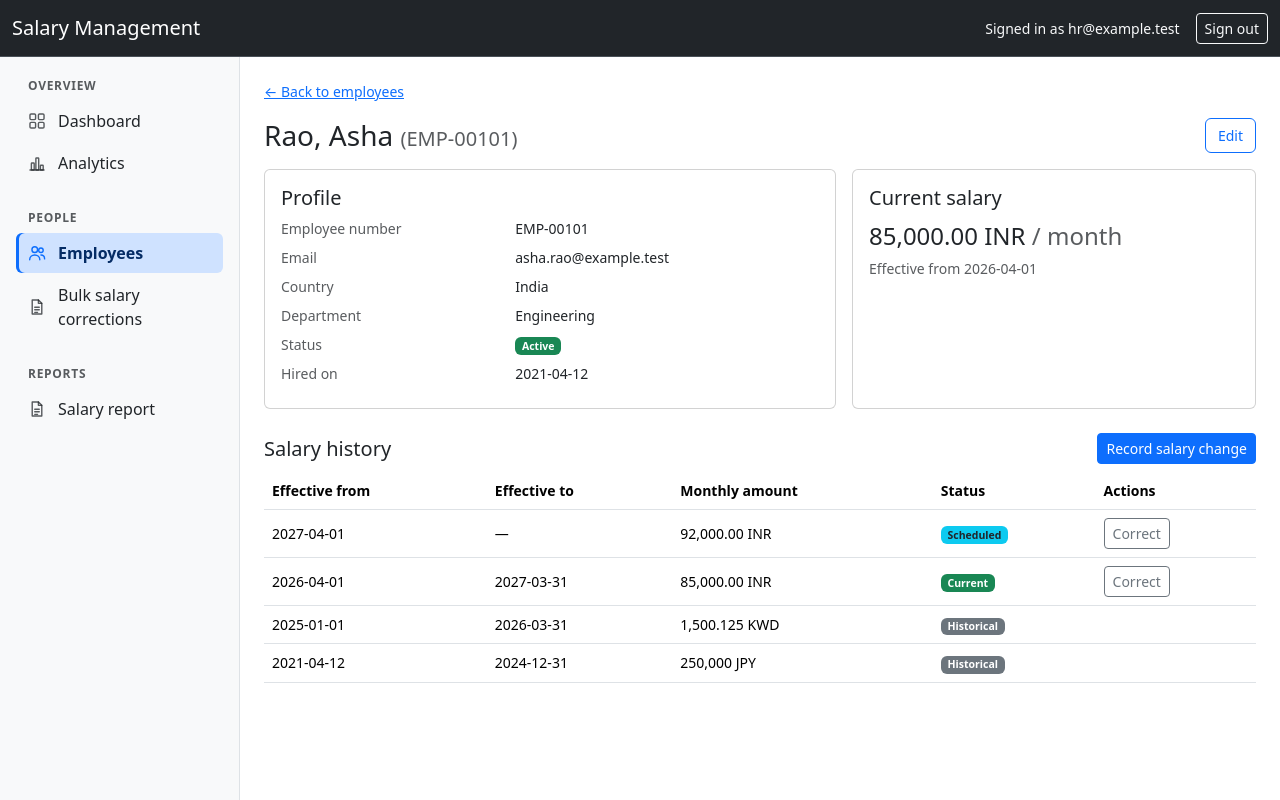
Scenario: Correct salary record › explains when the record can no longer be corrected and refreshes the history
The width and height of the screenshot is (1280, 800).
Check: the button "Record salary change" is enabled, box [1098,433,1256,464]
Click the button with aria-label "Correct salary effective from 2026-04-01". click: (1137, 582)
box: [1104,566,1170,597]
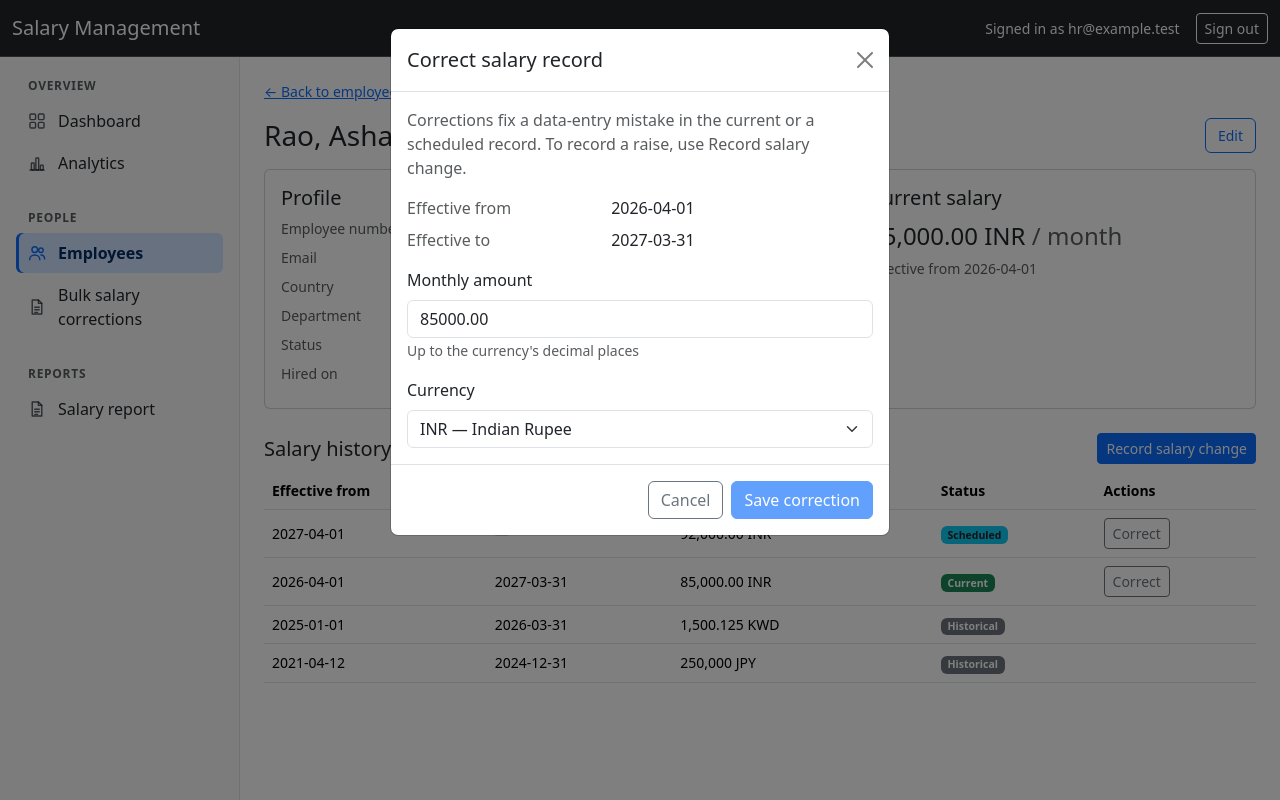
Replace the text in the field labelled "Monthly amount" with "86000.00". click: (640, 319)
box: [407,300,873,338]
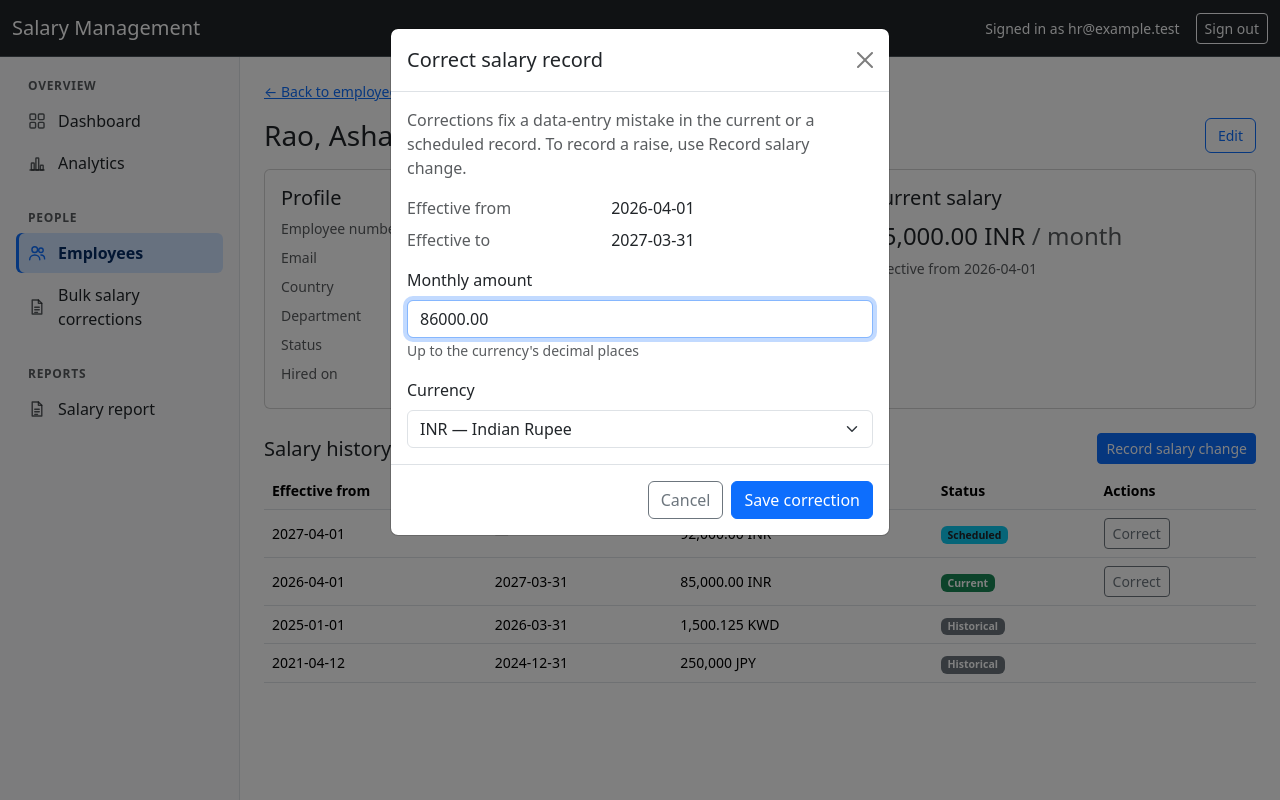
Click the button "Save correction". click: (802, 500)
box: [732,481,873,519]
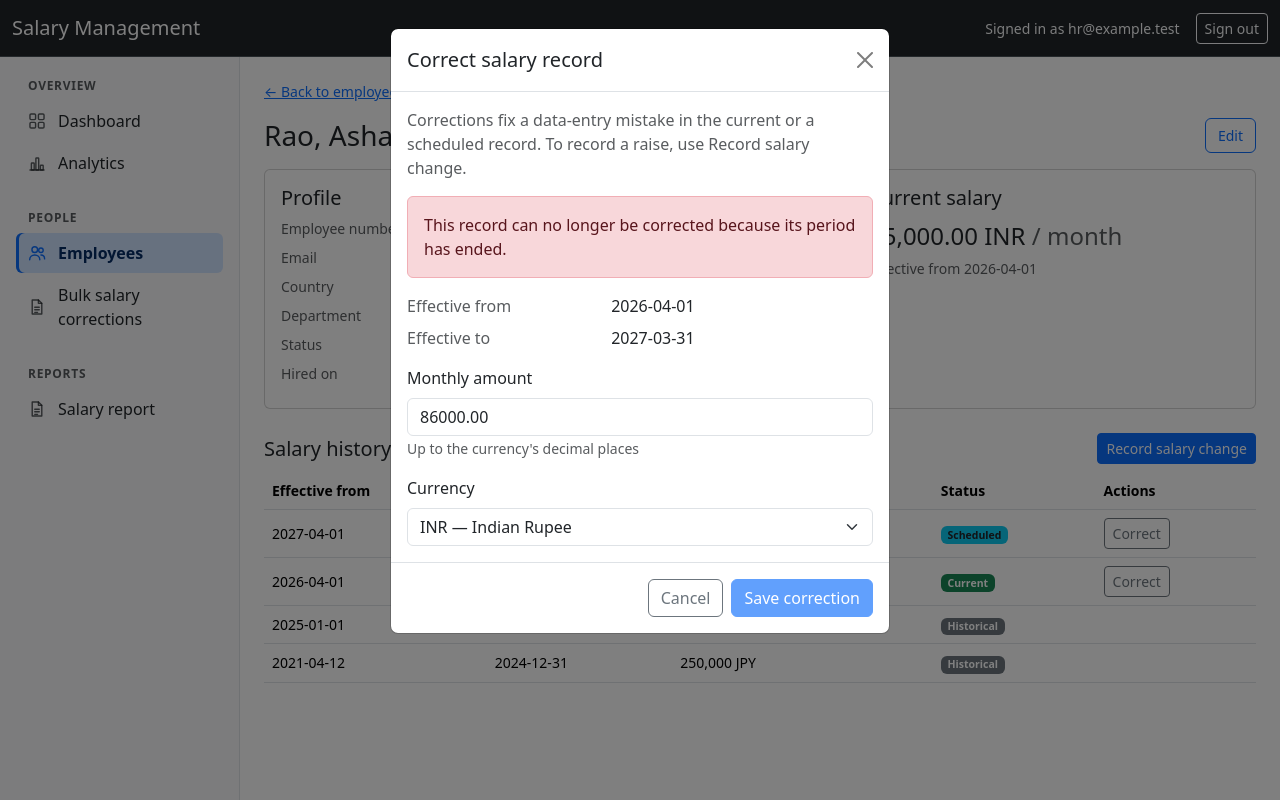
Check: the message reads "This record can no longer be corrected because its period has ended.", box [424,214,855,260]
Check: the button "Save correction" is disabled, box [732,579,873,617]
